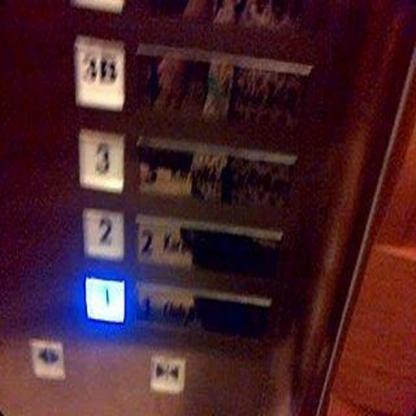1: (82, 273, 127, 324)
2: (80, 203, 126, 261)
3: (75, 124, 125, 192)
blur: (70, 31, 126, 111)
close: (146, 348, 188, 398)
open: (27, 336, 67, 382)
